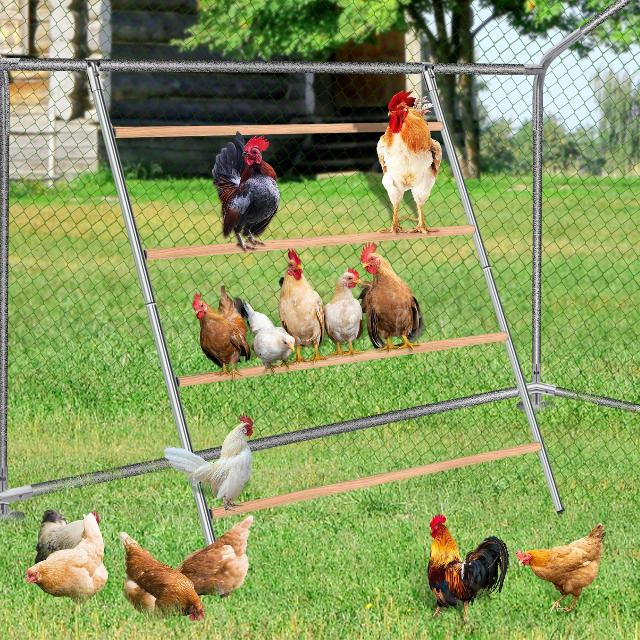Chicken: (375, 88, 446, 233), (429, 514, 510, 627), (164, 413, 255, 510), (209, 129, 281, 251), (517, 523, 608, 615), (114, 531, 205, 622), (25, 513, 109, 603), (357, 241, 425, 352), (174, 514, 256, 601), (278, 248, 328, 364), (191, 287, 254, 379), (234, 296, 298, 377), (321, 266, 365, 357), (34, 509, 100, 563)
